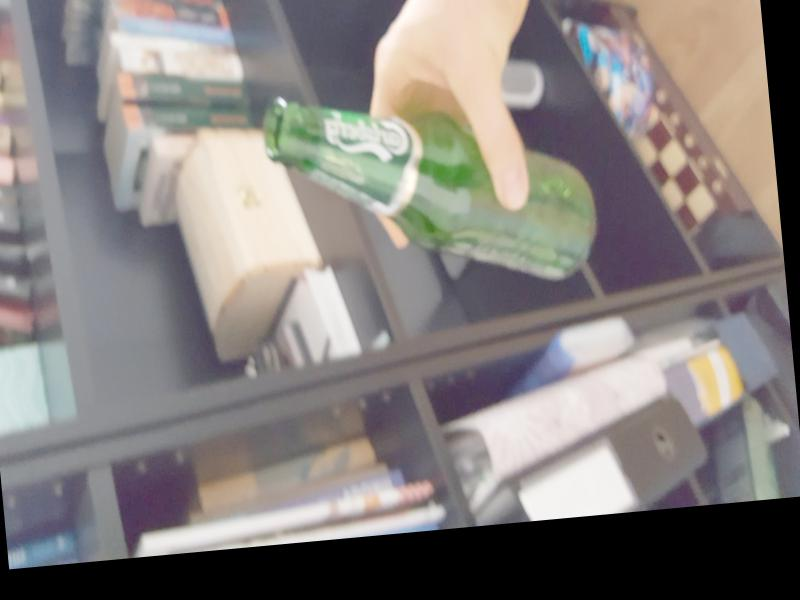Beer: (261, 74, 601, 309)
